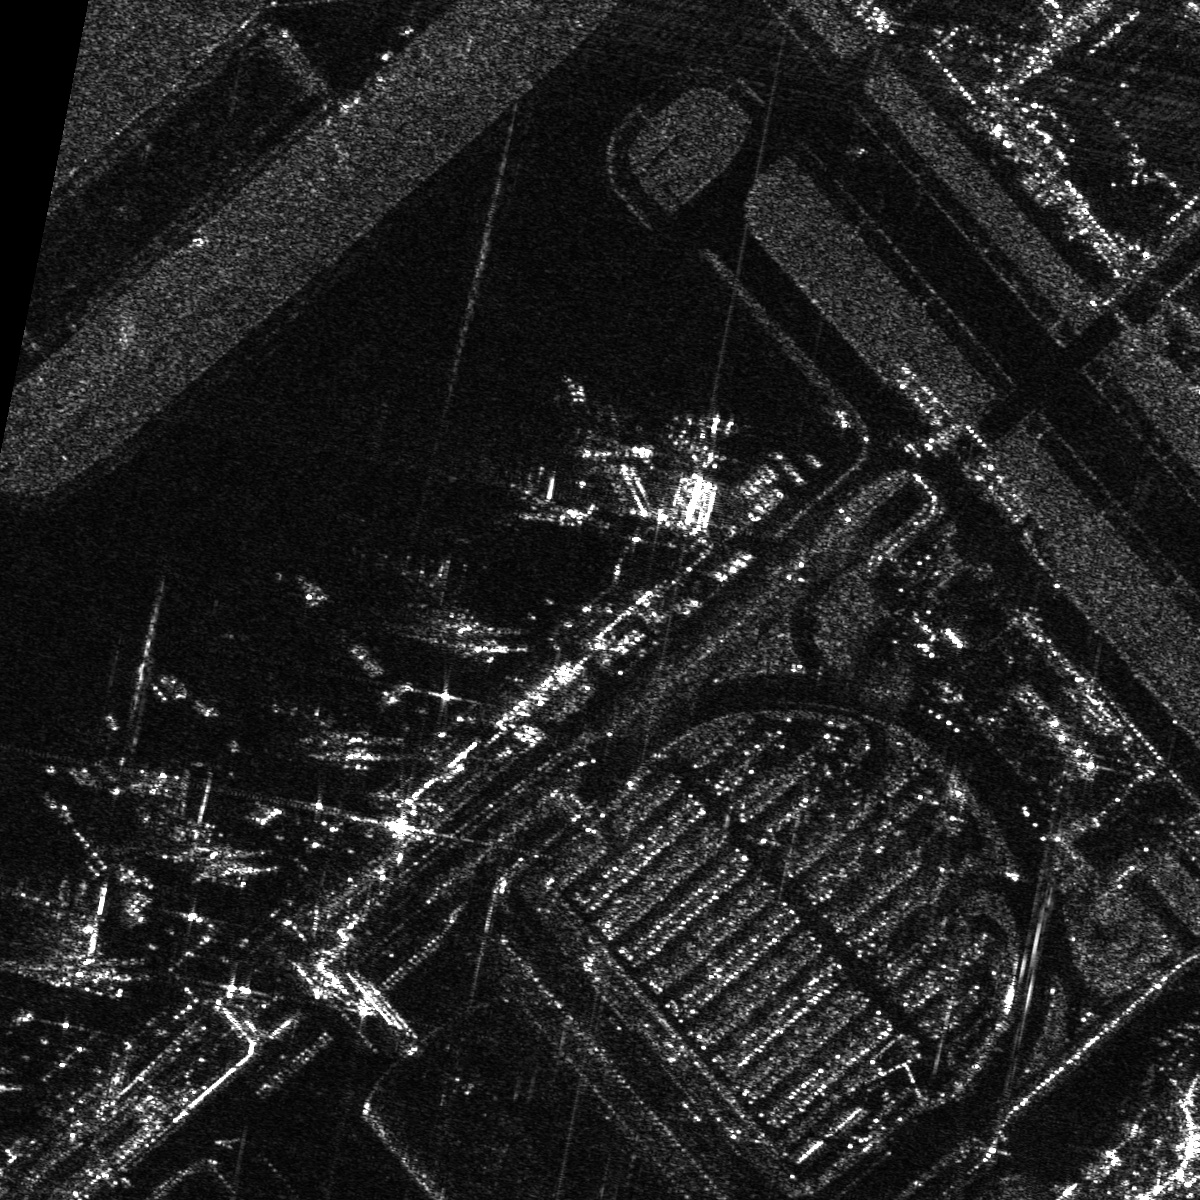Boeing737: (576, 401, 657, 470), (384, 555, 454, 620), (508, 462, 562, 531)
Boeing787: (1, 871, 109, 968), (124, 762, 222, 846), (669, 403, 754, 473)
